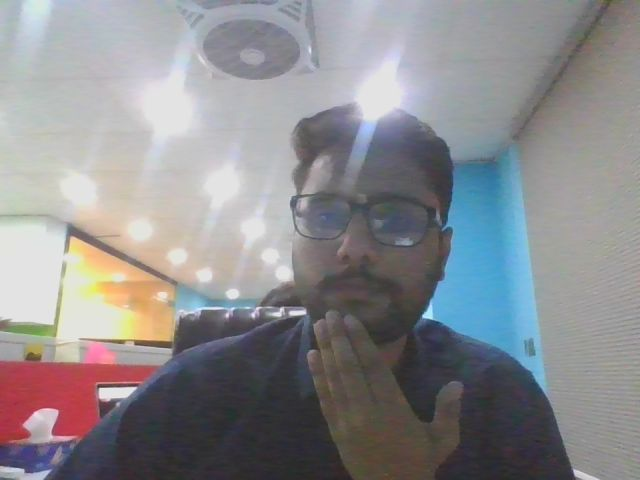thanks: (288, 301, 495, 475)
